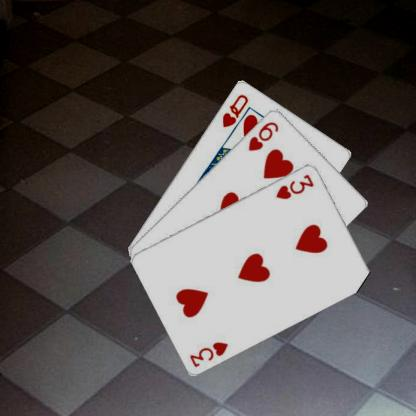3H: (187, 339, 230, 368), (274, 172, 316, 200)
6H: (246, 119, 280, 152)
QH: (220, 91, 250, 128)
